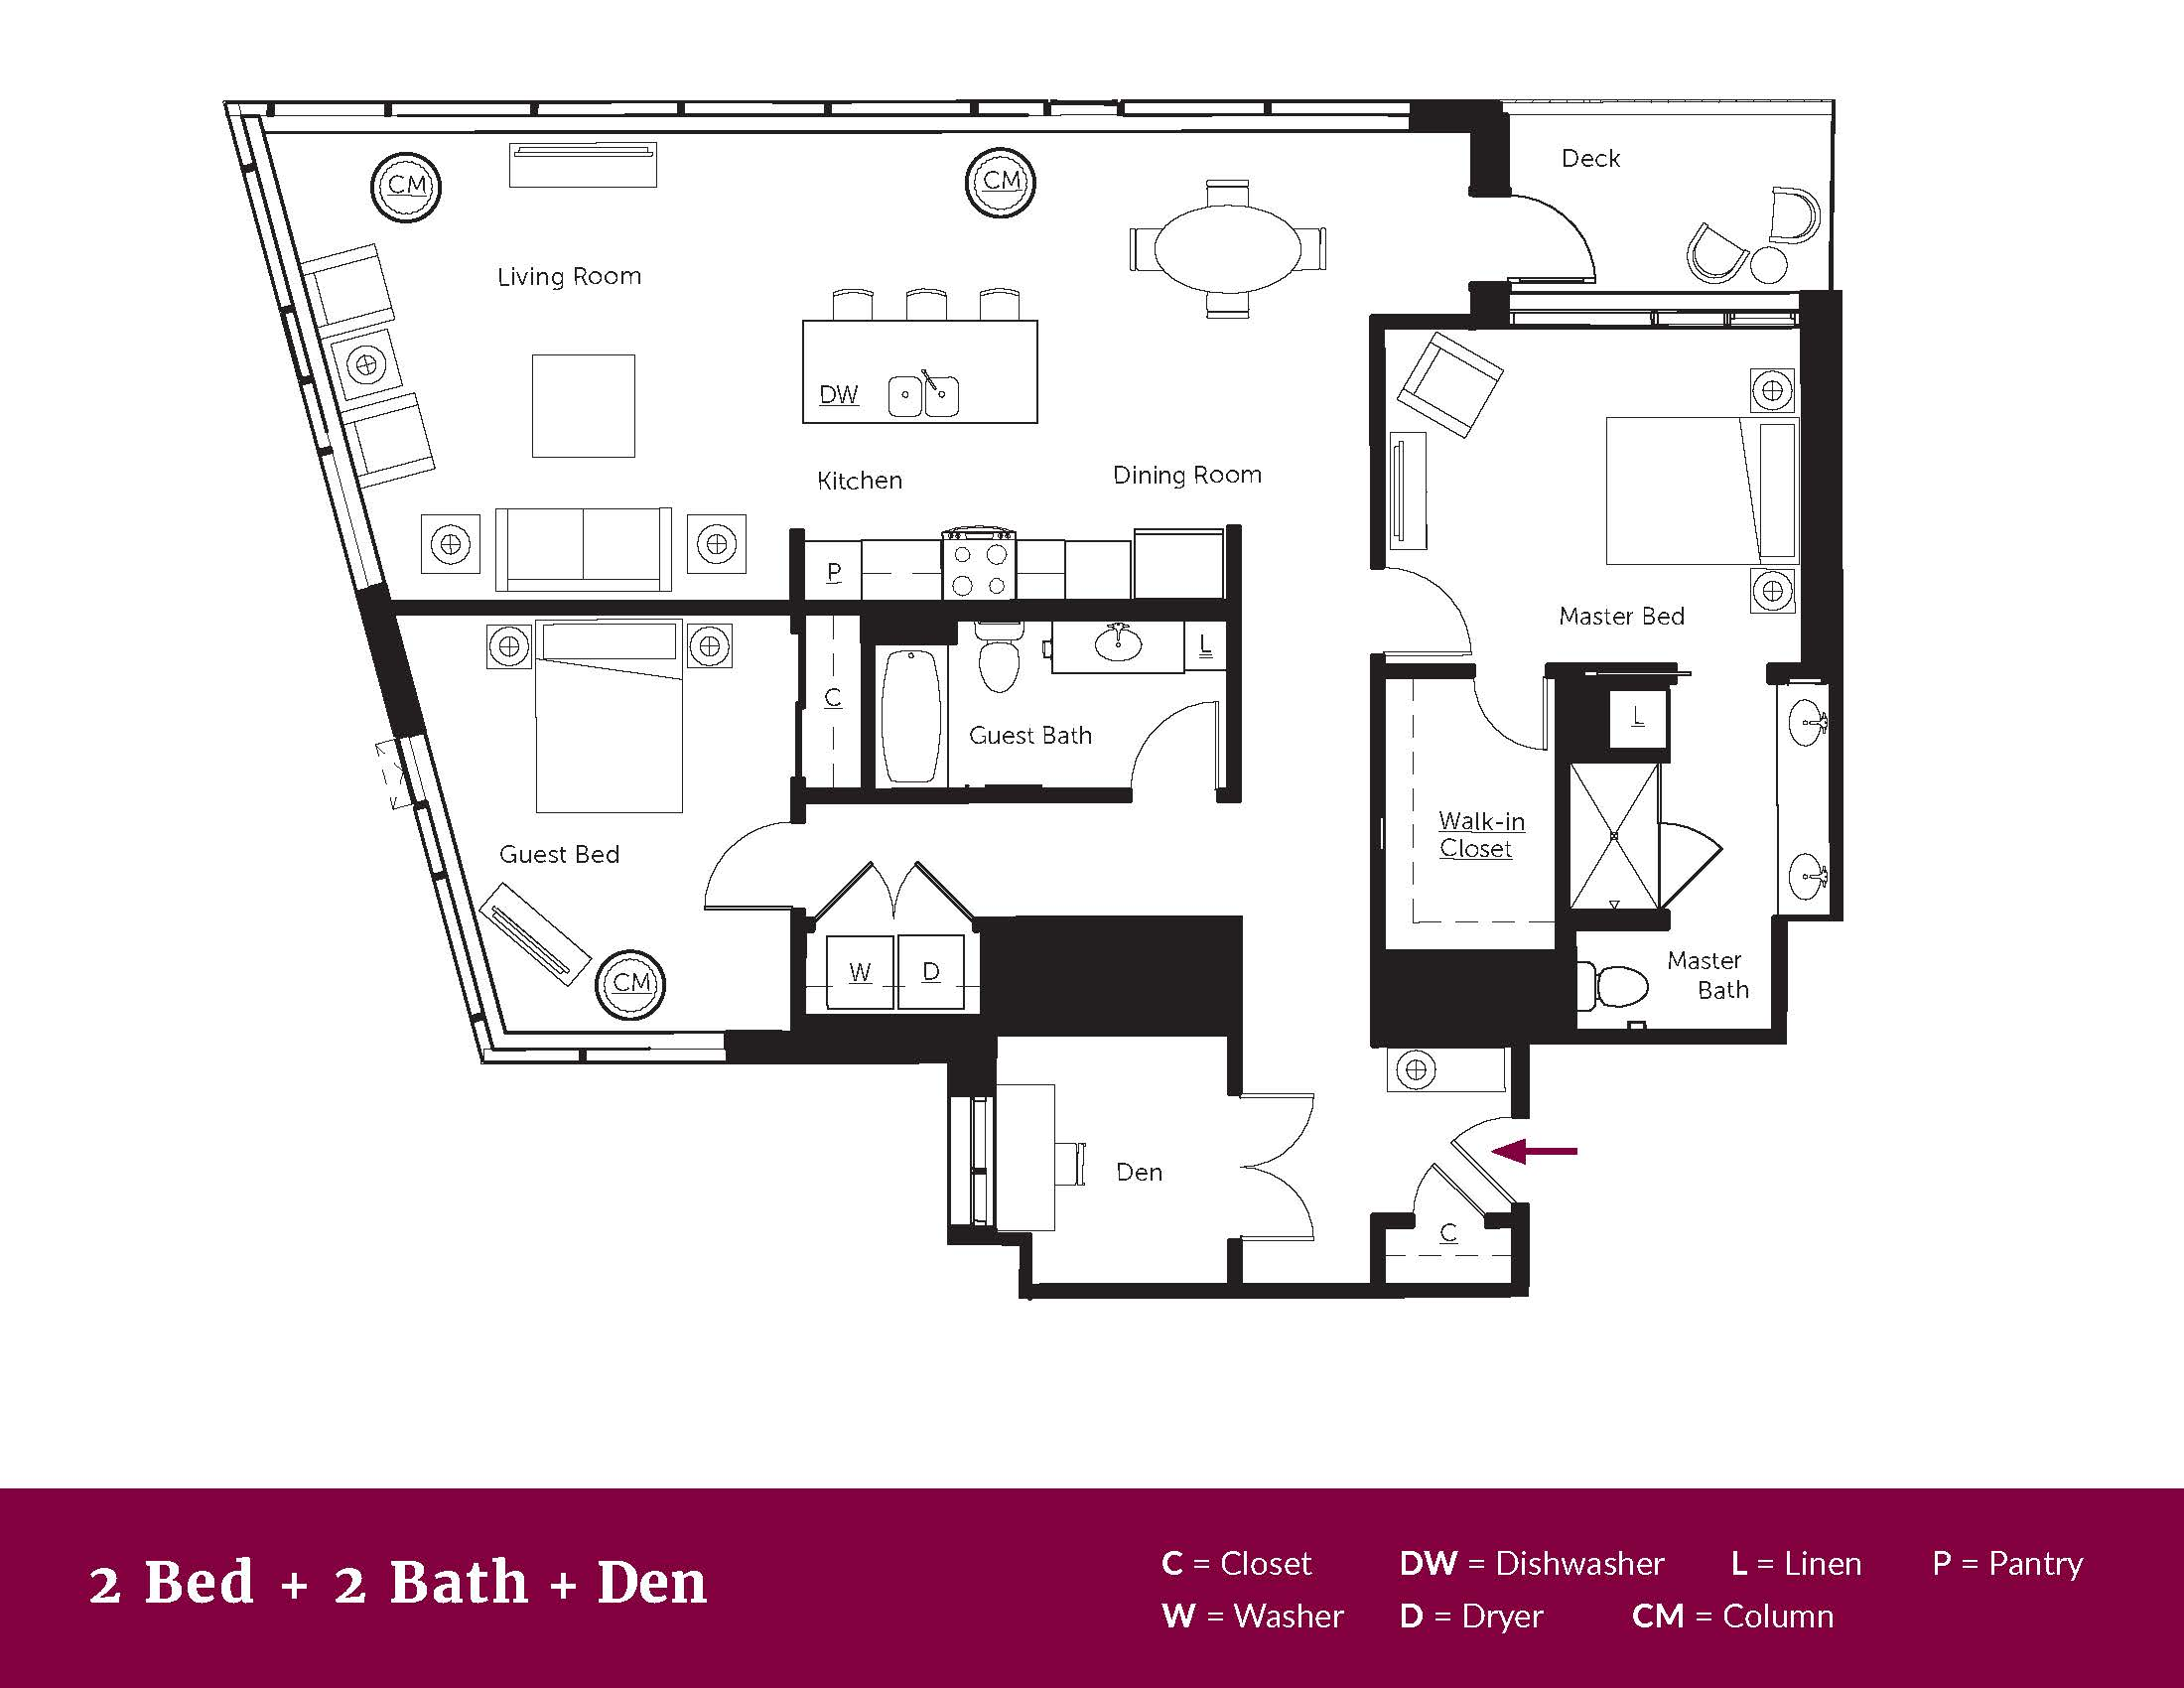door: (1239, 1080, 1326, 1250), (682, 817, 775, 924), (1390, 551, 1478, 656), (828, 849, 957, 911), (1136, 695, 1230, 773), (1517, 193, 1601, 280), (1677, 805, 1739, 901), (1470, 692, 1556, 759), (1406, 1165, 1475, 1220)
wall: (1792, 293, 1845, 674), (730, 1025, 998, 1071), (1028, 1278, 1528, 1301), (349, 590, 427, 731), (789, 596, 1239, 619), (1360, 312, 1393, 574), (392, 601, 798, 619), (1826, 677, 1851, 911), (1459, 113, 1519, 191), (1376, 660, 1390, 957), (1574, 1025, 1782, 1044), (1413, 94, 1516, 129), (856, 619, 876, 791), (1367, 312, 1507, 335), (1769, 917, 1792, 1039), (787, 521, 812, 619), (945, 1229, 1037, 1246), (1021, 1232, 1039, 1291)
window: (1496, 282, 1798, 333), (938, 1094, 1003, 1223)
